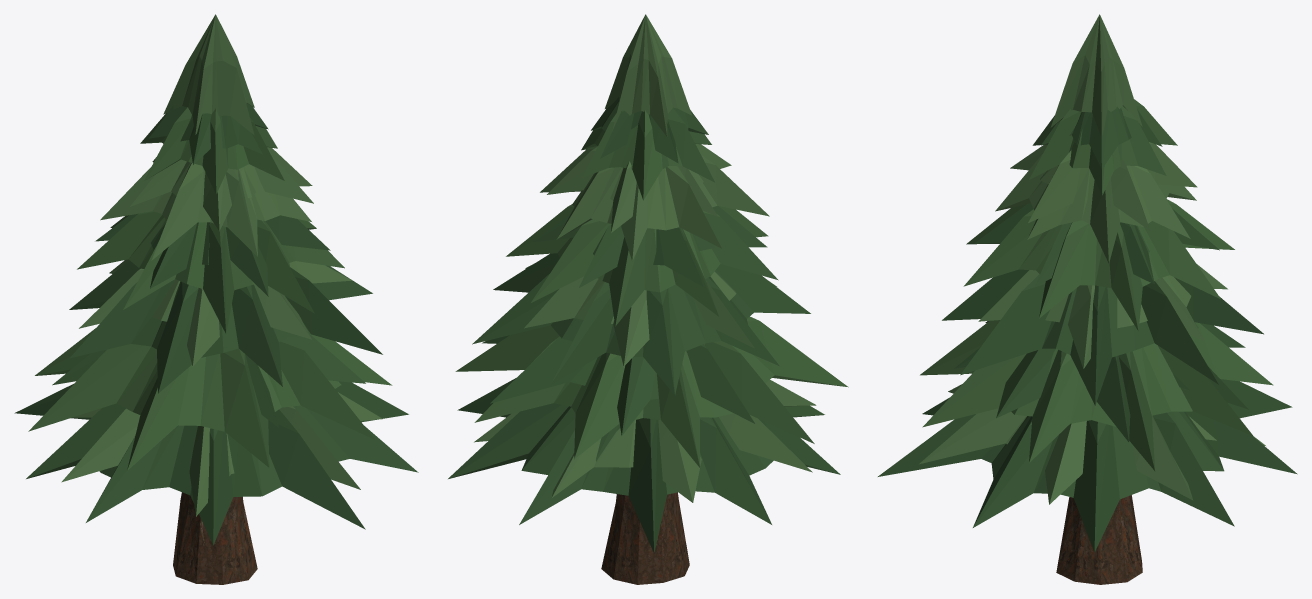
File: pine_tree_lod0.glb
3 renders of one model, left to right at view 1: azimuth 30°, elevation 25°; view 2: azimuth 150°, elevation 25°; view 3: azimuth 270°, elevation 25°, orthographic.
Parts seen in each view (by area): view 1: PineTreeLOD0; view 2: PineTreeLOD0; view 3: PineTreeLOD0.
Boxes of the visible parts, box(x1,y1,x2,y2) form: PineTreeLOD0: box(14, 14, 418, 584); PineTreeLOD0: box(448, 14, 848, 584); PineTreeLOD0: box(878, 14, 1297, 584).
Bounding box in the file's own units: 3.07 × 4.38 × 3.02.
Materials: 4 (1 with a texture image).
